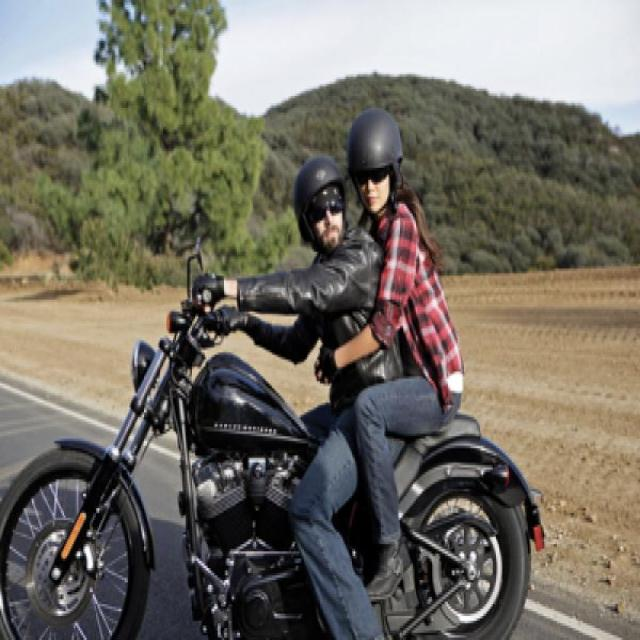Helmet: (345, 105, 416, 218), (288, 154, 349, 250)
